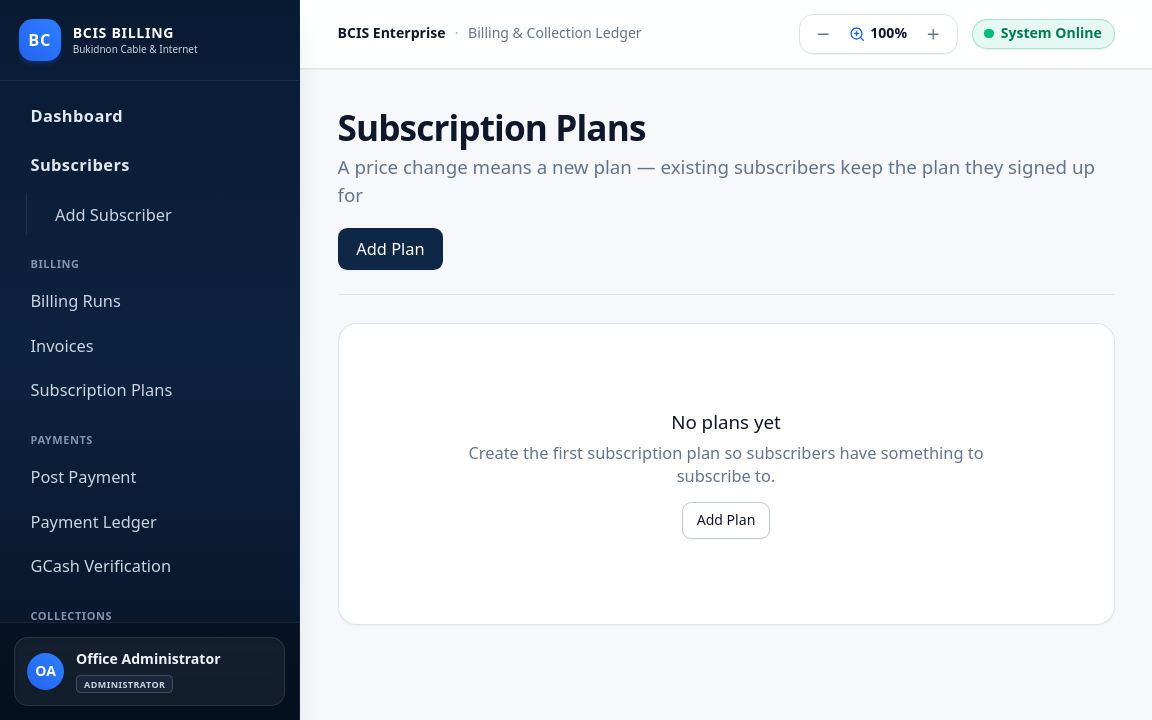
Test: PlanManagementPage › reports the missing name and rate beside their fields and focuses the name
The width and height of the screenshot is (1152, 720).
Click the 1st button "Add Plan": {"x": 390, "y": 249} [338,228,443,270]
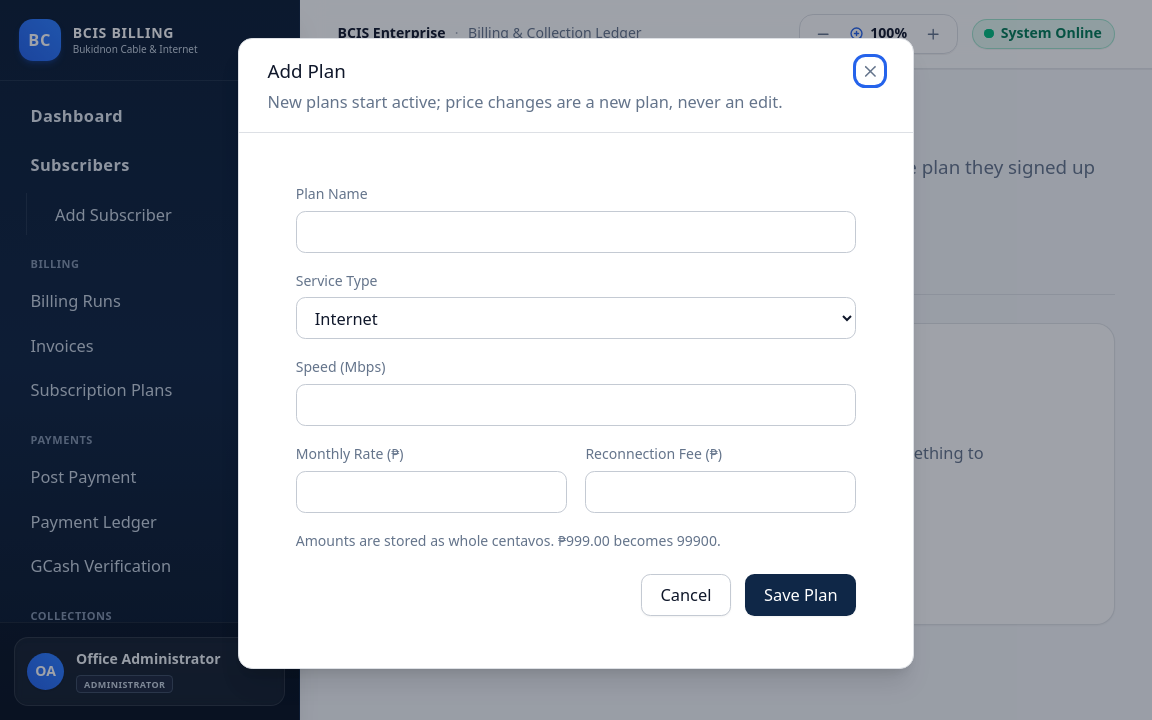
Expected: the dialog "Add Plan" is shown, [238,38,914,668]
Click the button "Save Plan": {"x": 801, "y": 595} [745,574,856,616]
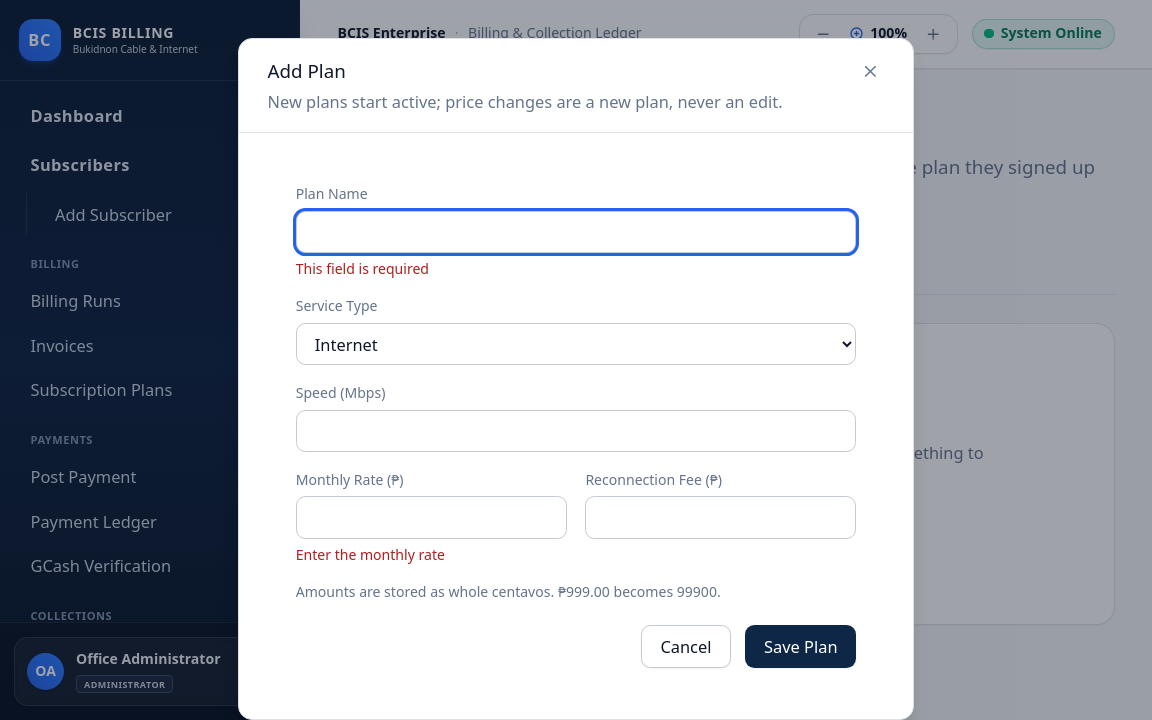
Expected: the message "This field is required" is shown, [296,259,429,278]
Expected: the message "Enter the monthly rate" is shown, [296,545,445,564]
